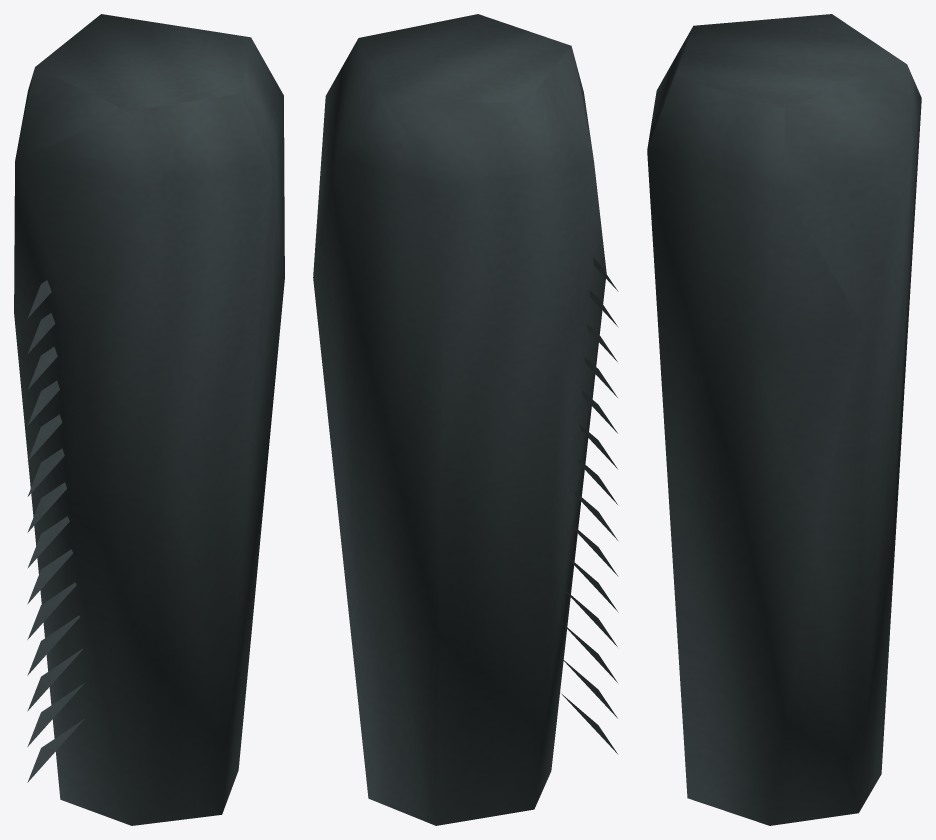
File: upper_arm_r_lod2.glb
The picture shows the model from 3 angles, left to right: view 1: azimuth 30°, elevation 25°; view 2: azimuth 150°, elevation 25°; view 3: azimuth 270°, elevation 25°; orthographic projection.
Parts seen in each view (by area): view 1: dormin_upper_arm_r_LOD2; view 2: dormin_upper_arm_r_LOD2; view 3: dormin_upper_arm_r_LOD2.
Part boxes in pixels (x1,y1,x2,y2): dormin_upper_arm_r_LOD2: (14, 14, 284, 825); dormin_upper_arm_r_LOD2: (313, 14, 618, 825); dormin_upper_arm_r_LOD2: (647, 14, 921, 825).
Size of the model in its own units: 1.69 by 4.26 by 1.46.
Materials: 1 (1 with a texture image).
